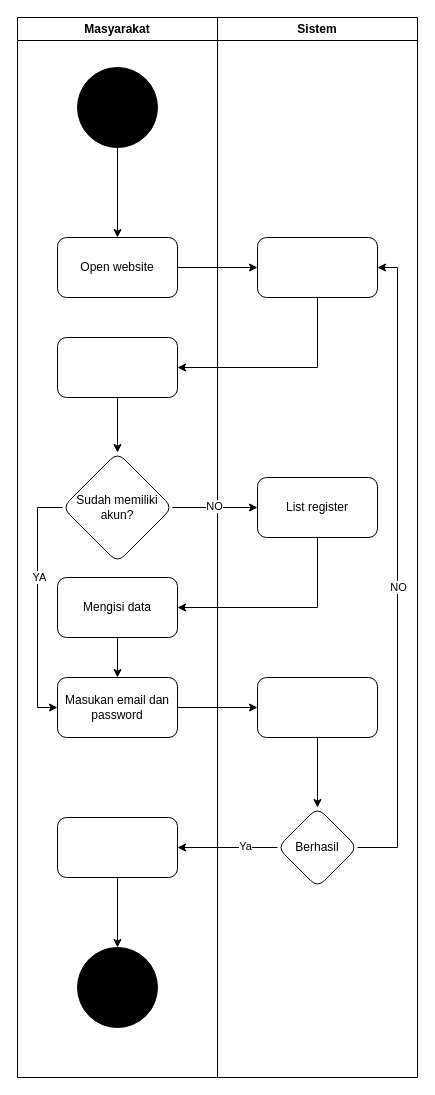
This 435x1095 diagram has some shape labels left out. Each missing label, with the box of its shape:
Cek email dan password: (256, 676, 378, 738)
Login view: (256, 236, 378, 298)
Menampilkan login dari: (56, 336, 178, 398)
Menampilkan menu: (56, 816, 178, 878)
